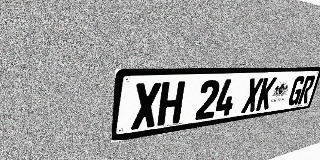2: (195, 80, 221, 120)
4: (214, 79, 238, 117)
G: (287, 76, 306, 106)
H: (157, 81, 186, 126)
K: (255, 77, 277, 111)
R: (297, 75, 316, 105)
X: (131, 82, 161, 130), (241, 78, 264, 113)
